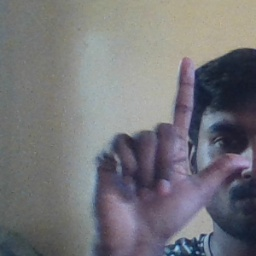L: (87, 55, 244, 247)
